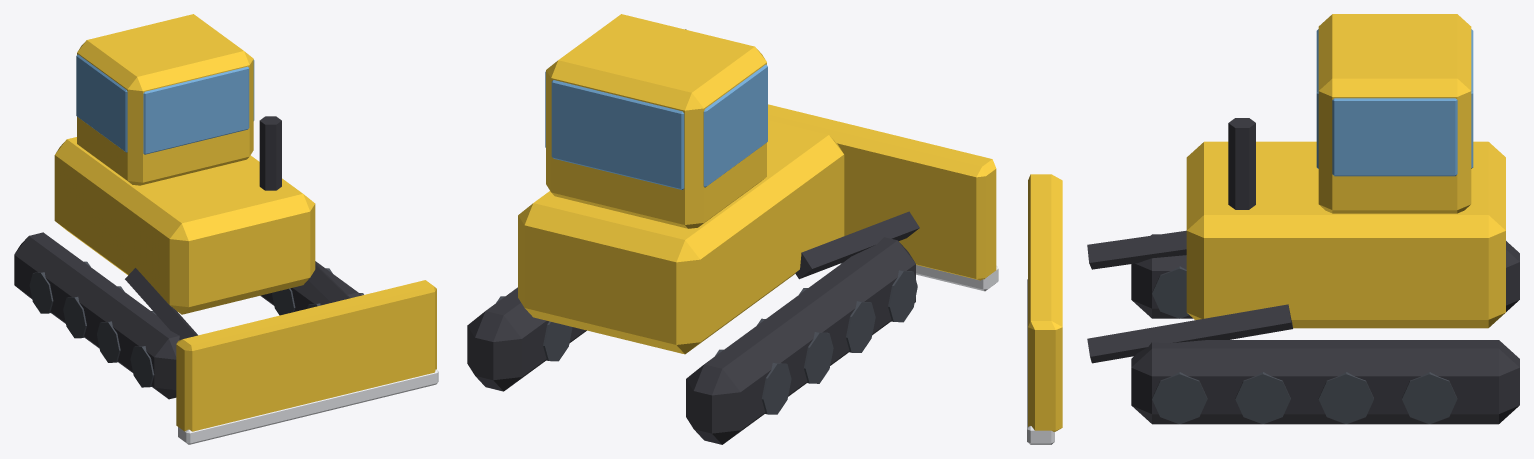
Rendered from Bulldozer.fbx.
The picture shows the model from 3 angles, left to right: view 1: azimuth 30°, elevation 25°; view 2: azimuth 150°, elevation 25°; view 3: azimuth 270°, elevation 25°; orthographic projection. The views are drawn at different scales.
Visible parts, largest first — view 1: Bulldozer, Bulldozer_Blade; view 2: Bulldozer, Bulldozer_Blade; view 3: Bulldozer, Bulldozer_Blade.
Boxes of the visible parts, <box> form: Bulldozer: <box>14,14,363,399</box>; Bulldozer_Blade: <box>176,280,438,444</box>; Bulldozer: <box>467,14,919,444</box>; Bulldozer_Blade: <box>768,104,998,291</box>; Bulldozer: <box>1087,14,1519,424</box>; Bulldozer_Blade: <box>1027,174,1062,444</box>.
Size of the model in its own units: 5.2 by 5.15 by 7.1.
1 material, 1 textured.
